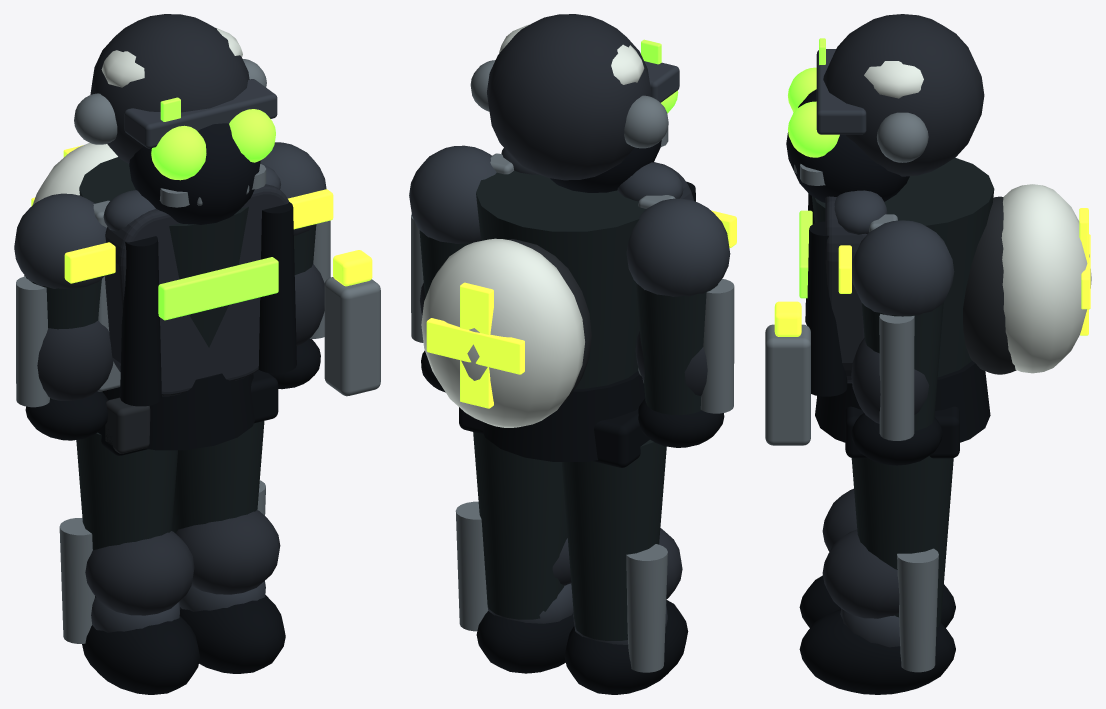
The model's file is medic_l01.glb.
3 views of the same model, side by side, from view 1: azimuth 30°, elevation 25°; view 2: azimuth 150°, elevation 25°; view 3: azimuth 270°, elevation 25° (orthographic). The views are drawn at different scales.
Visible parts, largest first — view 1: trouser (×2), shaped_knee_guard (×2), rounded_boot (×2), contoured_vest, vest_tether (×2), rounded_helmet, shoulder_joint (×2), enclosed_mask, curved_forearm_guard (×2), waist_flex, aid_injector, body (+18 smaller); view 2: trouser (×2), rounded_helmet, medical_pack, body, shoulder_joint (×2), rounded_boot (×2), shin_frame (×2), sleeve (×2), waist_flex, forearm_seam (×2), aid_cross_horizontal, belt (+11 smaller); view 3: rounded_helmet, medical_pack, body, trouser, rounded_boot (×2), shoulder_joint, shaped_knee_guard (×2), shaped_field_pack, aid_injector, shin_frame, forearm_seam, vest_tether (+18 smaller).
Part boxes in pixels (left/top/right/bottom): trouser (×2): left=76, top=421, right=264, bottom=597; shaped_knee_guard (×2): left=85, top=510, right=280, bottom=615; rounded_boot (×2): left=82, top=595, right=285, bottom=694; contoured_vest: left=104, top=184, right=289, bottom=396; vest_tether (×2): left=120, top=202, right=296, bottom=406; rounded_helmet: left=90, top=14, right=249, bottom=163; shoulder_joint (×2): left=14, top=142, right=326, bottom=289; enclosed_mask: left=129, top=123, right=260, bottom=224; curved_forearm_guard (×2): left=37, top=264, right=324, bottom=400; waist_flex: left=102, top=373, right=254, bottom=450; aid_injector: left=324, top=277, right=380, bottom=396; body: left=79, top=157, right=248, bottom=347; trouser (×2): left=473, top=432, right=666, bottom=640; rounded_helmet: left=487, top=14, right=651, bottom=180; medical_pack: left=421, top=238, right=584, bottom=427; body: left=476, top=170, right=645, bottom=388; shoulder_joint (×2): left=409, top=145, right=730, bottom=296; rounded_boot (×2): left=476, top=600, right=688, bottom=694; shin_frame (×2): left=455, top=501, right=667, bottom=672; sleeve (×2): left=419, top=230, right=717, bottom=414; waist_flex: left=483, top=371, right=645, bottom=461; forearm_seam (×2): left=411, top=214, right=734, bottom=413; aid_cross_horizontal: left=426, top=318, right=524, bottom=374; belt: left=459, top=407, right=649, bottom=467; rounded_helmet: left=823, top=14, right=984, bottom=176; medical_pack: left=1001, top=184, right=1091, bottom=373; body: left=812, top=157, right=994, bottom=377; trouser: left=851, top=456, right=953, bottom=628; rounded_boot (×2): left=799, top=575, right=955, bottom=694; shoulder_joint: left=852, top=220, right=954, bottom=316; shaped_knee_guard (×2): left=822, top=488, right=899, bottom=618; shaped_field_pack: left=963, top=196, right=1016, bottom=374; aid_injector: left=765, top=324, right=810, bottom=445; shin_frame: left=897, top=548, right=938, bottom=672; forearm_seam: left=879, top=314, right=914, bottom=440; vest_tether: left=807, top=221, right=847, bottom=396.
Bounding box in the file's own units: 0.9406 × 1.87 × 0.855.
